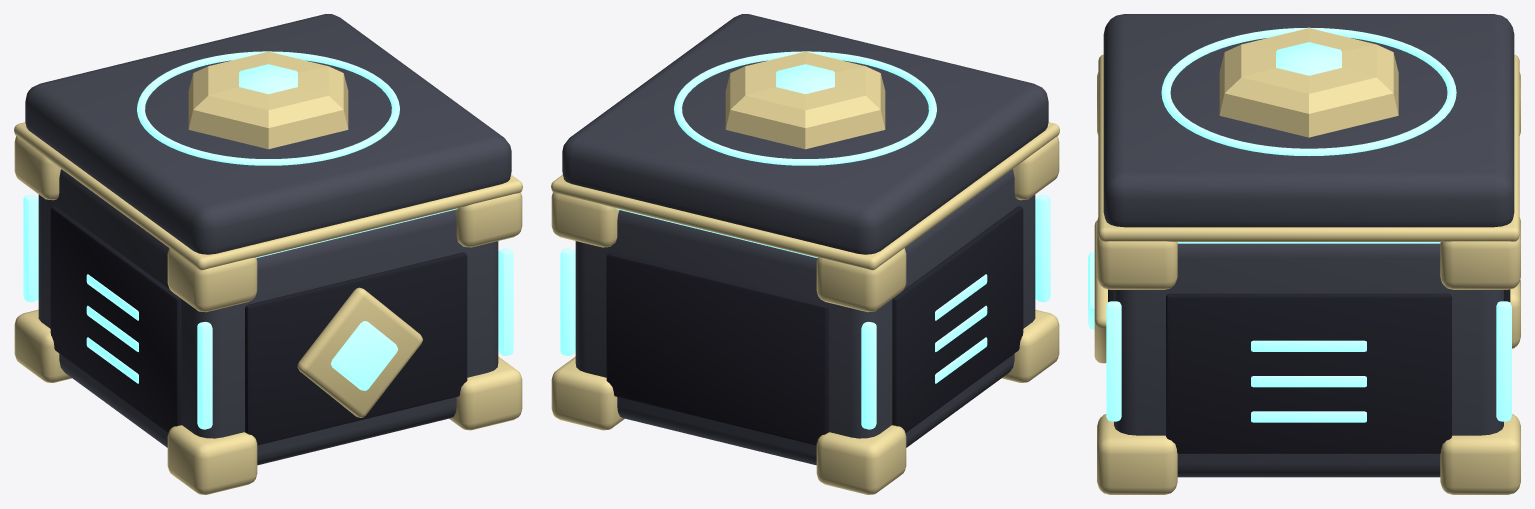
Rendered from Crate.fbx.
3 renders of one model, left to right at view 1: azimuth 30°, elevation 25°; view 2: azimuth 150°, elevation 25°; view 3: azimuth 270°, elevation 25°, orthographic. The views are drawn at different scales.
Visible parts, largest first — view 1: Crate_Lid_Gunmetal, Crate_Dark, Crate_Gunmetal, Crate_Trim, Crate_Lid_Trim, Crate_Glow, Crate_Lid_Glow; view 2: Crate_Lid_Gunmetal, Crate_Dark, Crate_Gunmetal, Crate_Trim, Crate_Lid_Trim, Crate_Glow, Crate_Lid_Glow; view 3: Crate_Lid_Gunmetal, Crate_Dark, Crate_Gunmetal, Crate_Lid_Trim, Crate_Trim, Crate_Glow, Crate_Lid_Glow.
Part boxes in pixels (x1=…): Crate_Lid_Gunmetal: x1=25, y1=14, x2=511, y2=254; Crate_Dark: x1=50, y1=206, x2=467, y2=445; Crate_Gunmetal: x1=38, y1=169, x2=498, y2=465; Crate_Trim: x1=14, y1=136, x2=522, y2=494; Crate_Lid_Trim: x1=14, y1=51, x2=522, y2=270; Crate_Glow: x1=23, y1=194, x2=513, y2=429; Crate_Lid_Glow: x1=137, y1=51, x2=399, y2=165; Crate_Lid_Gunmetal: x1=562, y1=14, x2=1048, y2=254; Crate_Dark: x1=606, y1=206, x2=1023, y2=445; Crate_Gunmetal: x1=575, y1=169, x2=1035, y2=465; Crate_Trim: x1=551, y1=136, x2=1059, y2=494; Crate_Lid_Trim: x1=551, y1=51, x2=1059, y2=270; Crate_Glow: x1=560, y1=194, x2=1050, y2=429; Crate_Lid_Glow: x1=674, y1=51, x2=936, y2=165; Crate_Lid_Gunmetal: x1=1103, y1=14, x2=1514, y2=227; Crate_Dark: x1=1108, y1=289, x2=1510, y2=453; Crate_Gunmetal: x1=1114, y1=243, x2=1503, y2=477; Crate_Lid_Trim: x1=1098, y1=28, x2=1519, y2=241; Crate_Trim: x1=1094, y1=72, x2=1520, y2=494; Crate_Glow: x1=1088, y1=242, x2=1511, y2=422; Crate_Lid_Glow: x1=1161, y1=27, x2=1456, y2=155.
Bounding box in the file's own units: 3.26 × 3 × 3.33.
